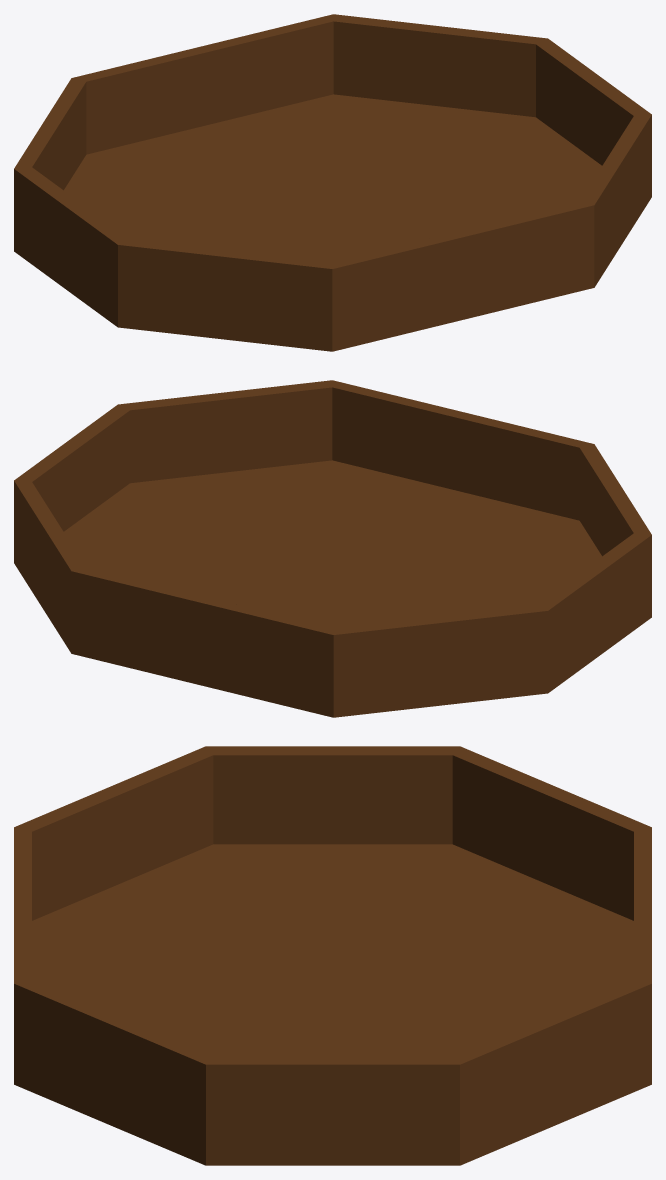
Rendered from dice_tray.glb.
3 renders of one model, top to bottom at view 1: azimuth 30°, elevation 25°; view 2: azimuth 150°, elevation 25°; view 3: azimuth 270°, elevation 25°, orthographic. The views are drawn at different scales.
Parts seen in each view (by area): view 1: Dice_tray; view 2: Dice_tray; view 3: Dice_tray.
Part boxes in pixels (x1,y1,x2,y2): Dice_tray: (14,14,651,351); Dice_tray: (14,380,651,717); Dice_tray: (14,746,651,1165).
Bounding box in the file's own units: 146 × 21.54 × 123.
